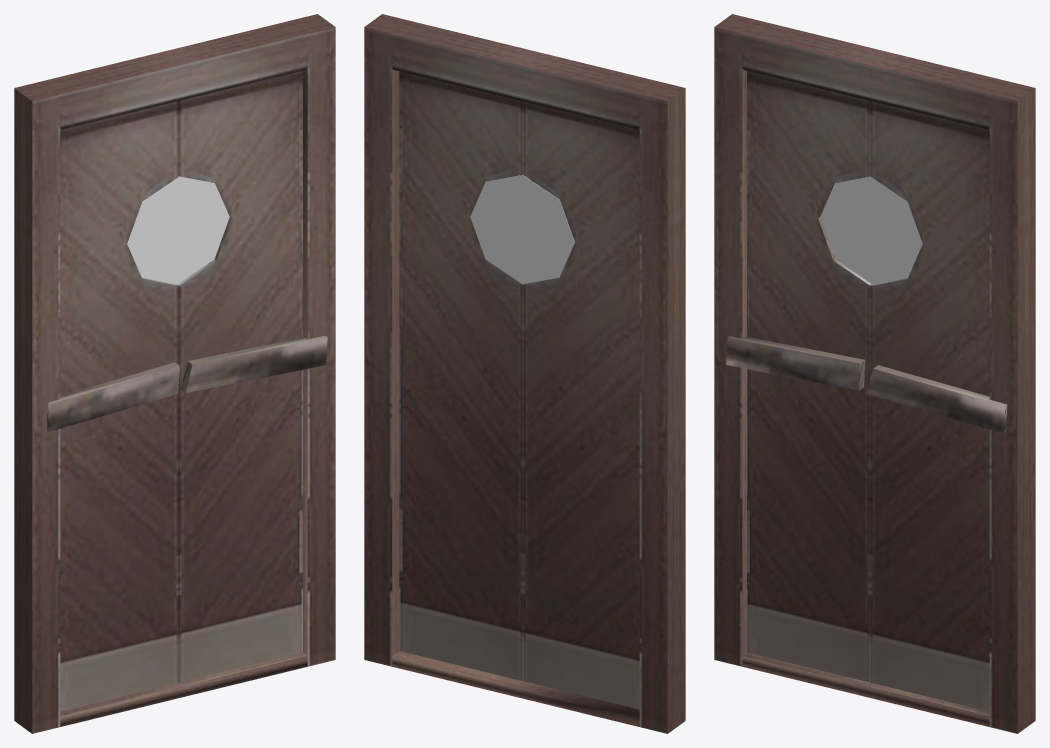
The model's file is door kitchen.glb.
3 views of the same model, side by side, from view 1: azimuth 30°, elevation 25°; view 2: azimuth 150°, elevation 25°; view 3: azimuth 330°, elevation 25° (orthographic).
Parts seen in each view (by area): view 1: door left_001, main, door left, Cylinder_001; view 2: door left_001, main, door left, Cylinder_001; view 3: door left_001, door left, main, Cylinder_001.
Boxes of the visible parts, box(x1,y1,x2,y2) form: door left_001: box(177, 70, 327, 682); main: box(14, 14, 335, 733); door left: box(46, 101, 179, 711); Cylinder_001: box(127, 178, 177, 284); door left_001: box(399, 71, 523, 680); main: box(364, 14, 685, 733); door left: box(523, 101, 639, 709); Cylinder_001: box(522, 175, 574, 284); door left_001: box(866, 100, 1007, 711); door left: box(726, 70, 871, 682); main: box(714, 14, 1035, 733); Cylinder_001: box(820, 176, 872, 284).
Bounding box in the file's own units: 0.7796 × 1.55 × 0.0899.
Materials: 3 (2 with a texture image).
